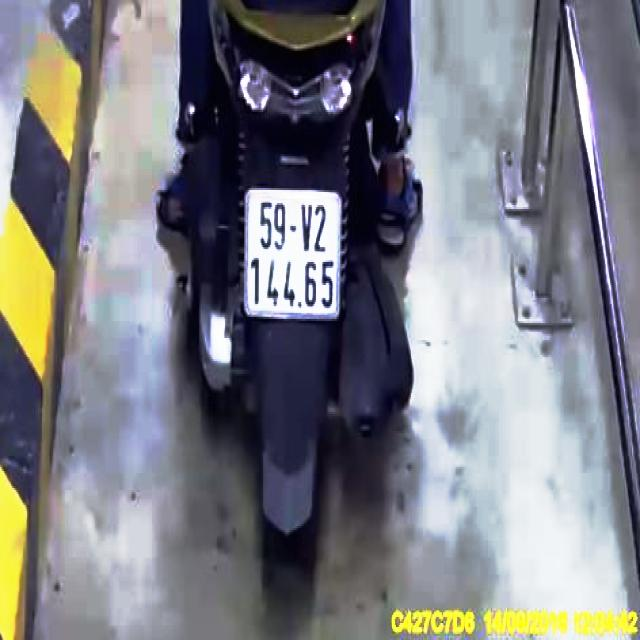license_plate: (246, 188, 342, 319)
